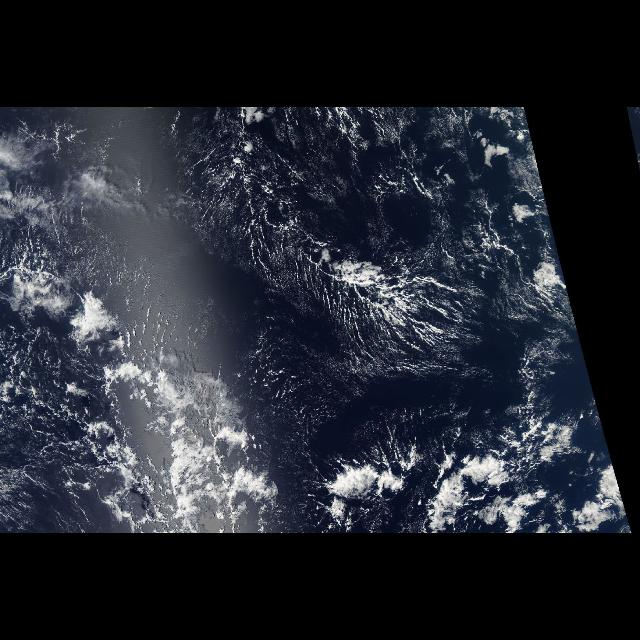Fish: (235, 202, 483, 406)
Gravel: (174, 134, 548, 362)
Sugar: (237, 311, 503, 434)
